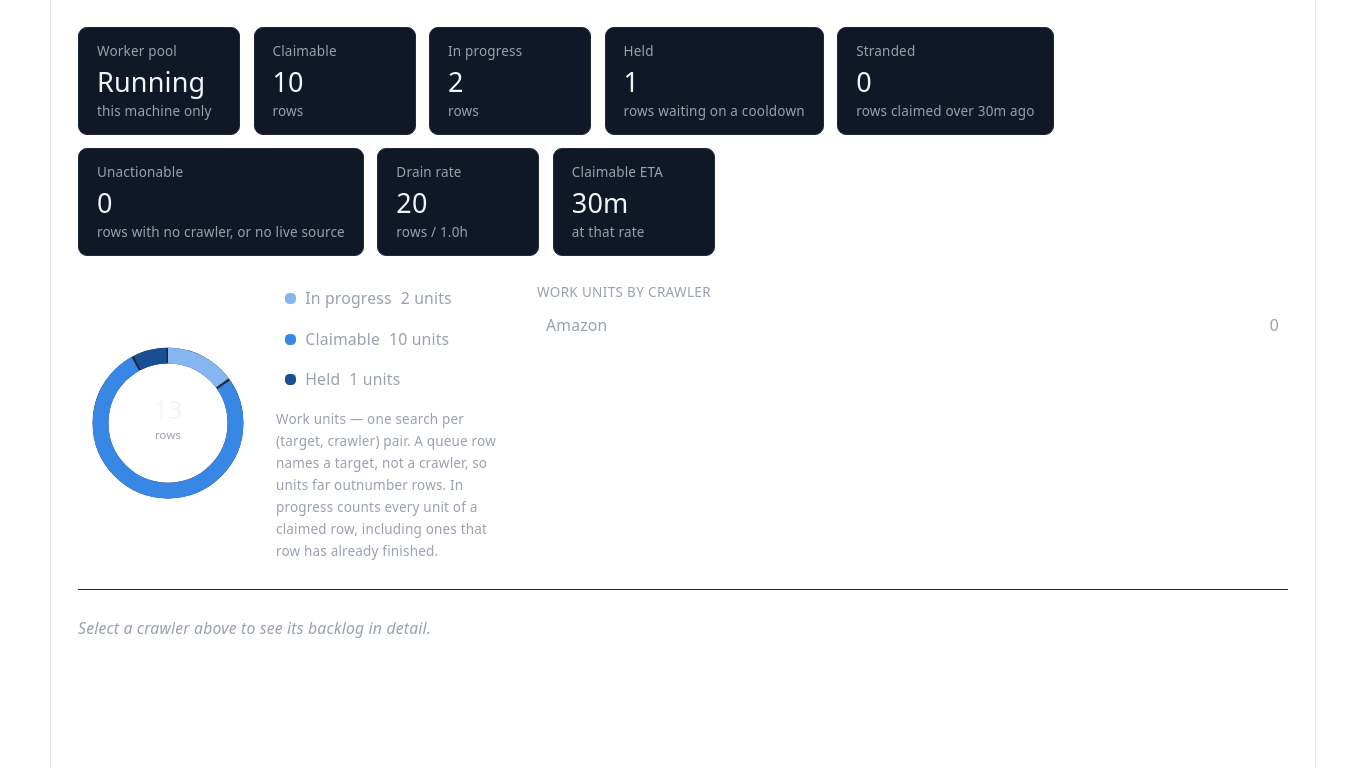
Scenario: QueueView › renders no composition bar for a crawler with nothing pending
Click the button "Amazon 0" at [577, 325], box [537,310,1288,341]
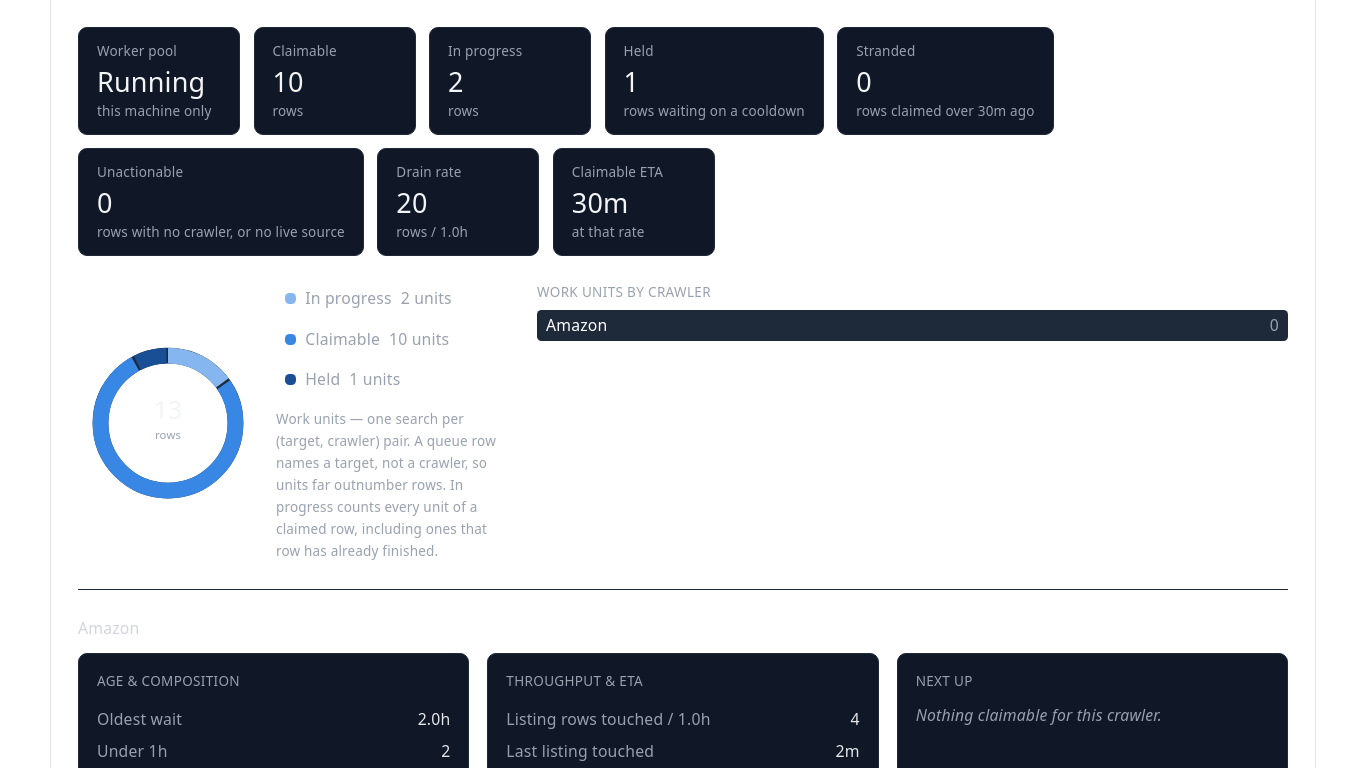
Expected: the text "Age & composition" is shown, [97,672,240,690]
